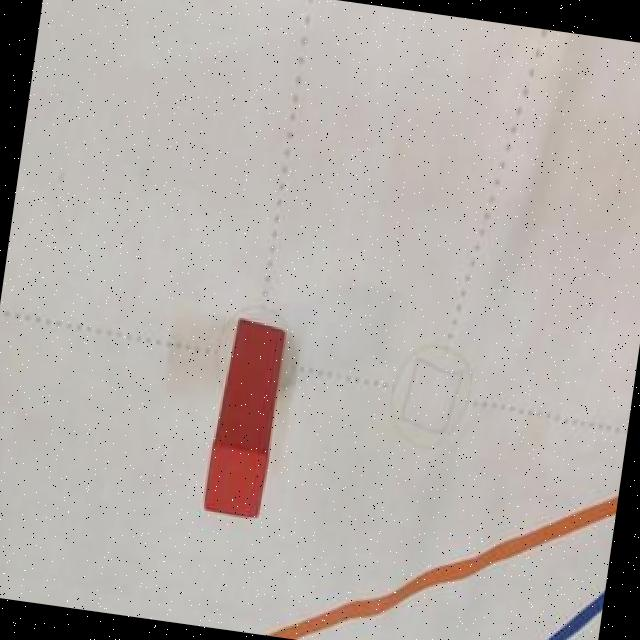redbox: (201, 312, 291, 521)
